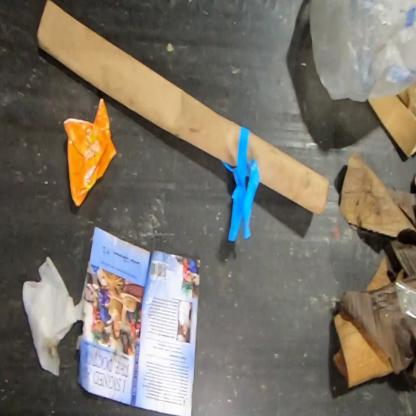cardboard: (36, 0, 240, 167), (247, 130, 331, 216), (367, 82, 415, 160)
soft_plastic: (307, 0, 416, 104), (63, 96, 118, 208), (221, 126, 261, 242), (394, 279, 415, 321)
